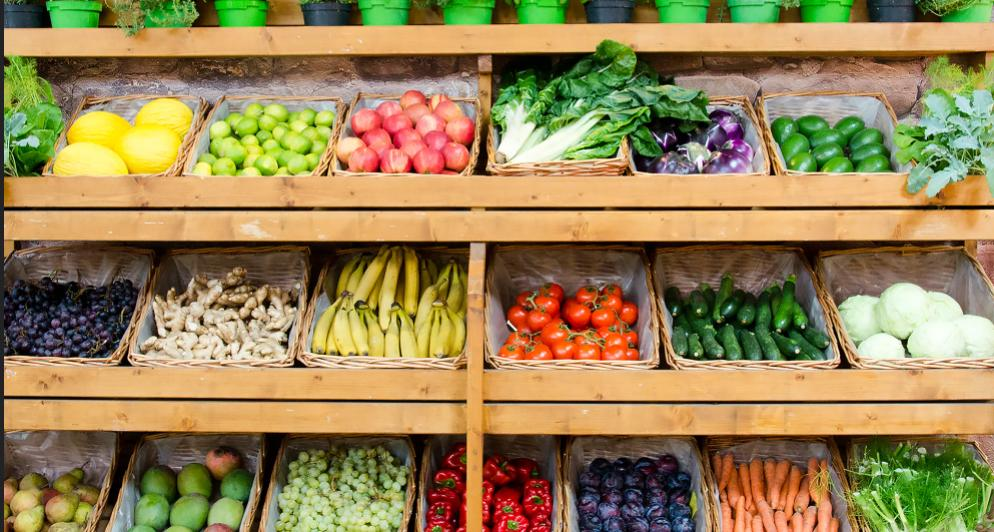banana: (301, 246, 472, 371)
carrot: (707, 439, 850, 532)
cucumber: (663, 273, 835, 372)
ginger: (135, 265, 298, 371)
grapes: (6, 251, 134, 388), (276, 437, 412, 532)
melon: (57, 90, 192, 193)
onion: (647, 99, 758, 178)
pear: (0, 459, 106, 532)
pomegranate: (337, 86, 479, 174)
sweet pepper: (424, 447, 554, 532)
tomato: (501, 276, 646, 371)
